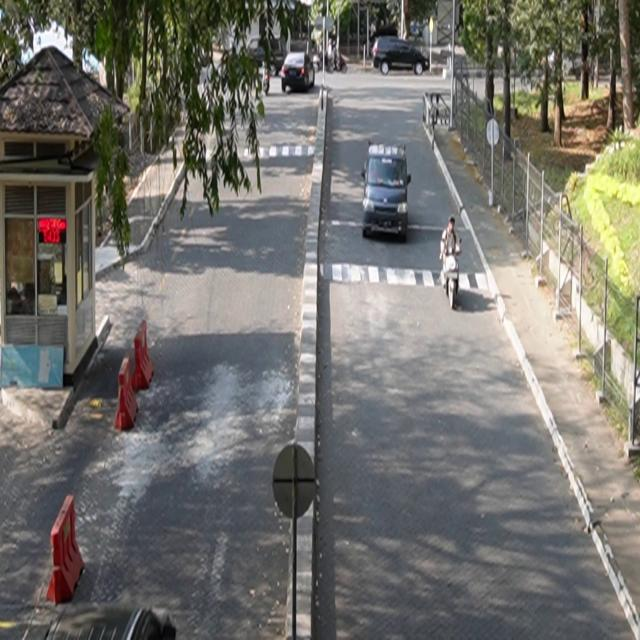car: (362, 143, 412, 242), (373, 36, 431, 77), (281, 52, 316, 93)
